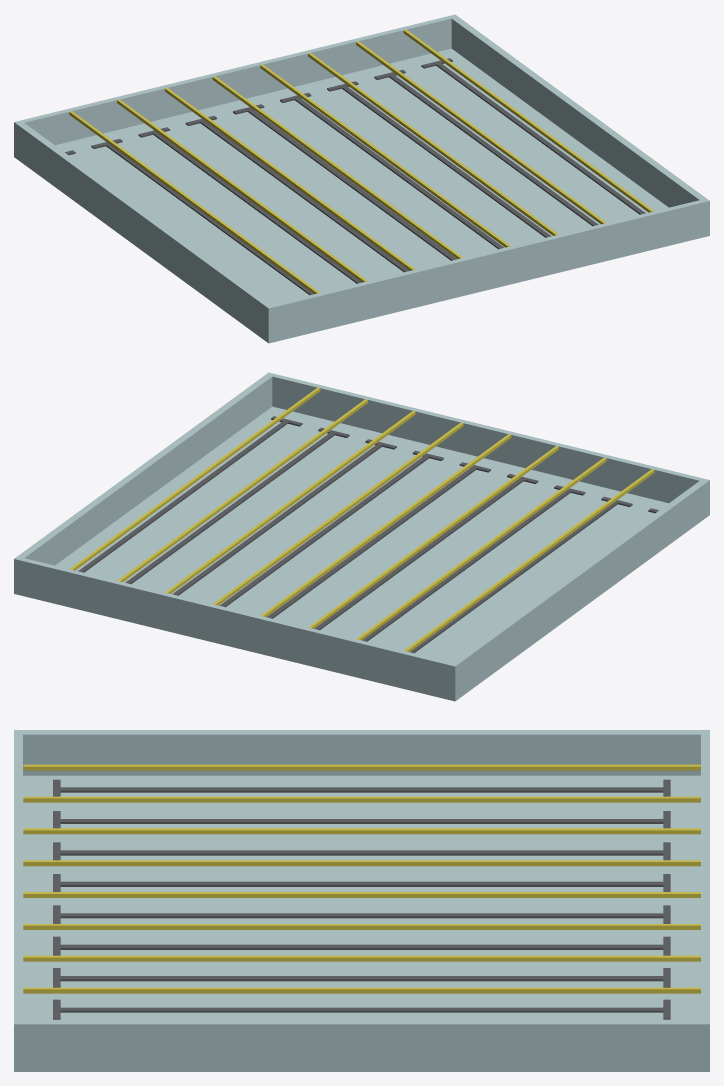
Rendered from pool.glb.
3 renders of one model, top to bottom at view 1: azimuth 30°, elevation 25°; view 2: azimuth 150°, elevation 25°; view 3: azimuth 270°, elevation 25°, orthographic. The views are drawn at different scales.
Parts seen in each view (by area): view 1: Mesh_Mesh_head_geo.001_lambert2SG.001; view 2: Mesh_Mesh_head_geo.001_lambert2SG.001; view 3: Mesh_Mesh_head_geo.001_lambert2SG.001.
Part boxes in pixels (x1=…): Mesh_Mesh_head_geo.001_lambert2SG.001: x1=14, y1=14, x2=709, y2=343; Mesh_Mesh_head_geo.001_lambert2SG.001: x1=14, y1=372, x2=709, y2=701; Mesh_Mesh_head_geo.001_lambert2SG.001: x1=14, y1=730, x2=709, y2=1071.
Bounding box in the file's own units: 924 × 70 × 924.
